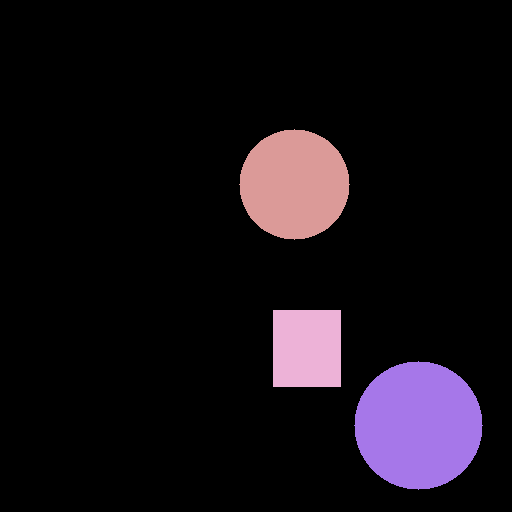circle: (354, 361, 482, 489), (239, 129, 349, 239)
rectangle: (273, 310, 340, 386)
